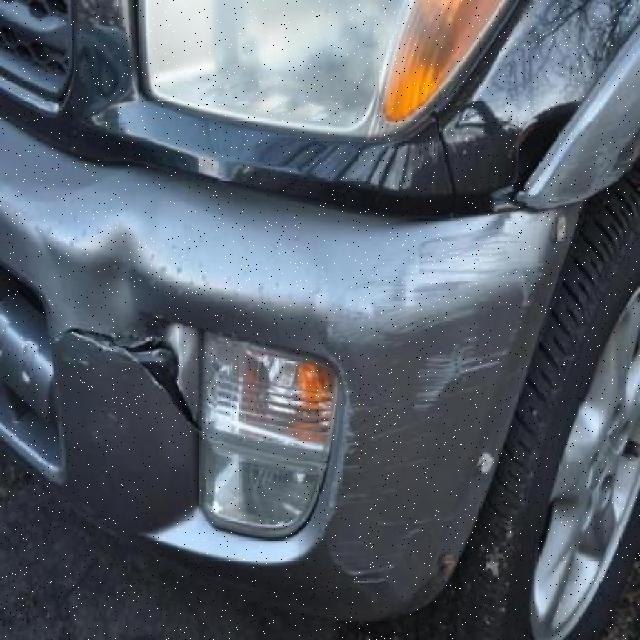damage: (334, 212, 536, 344), (312, 353, 422, 582), (49, 326, 202, 432), (494, 85, 614, 219), (74, 221, 164, 332), (413, 343, 508, 411), (537, 143, 636, 208)
